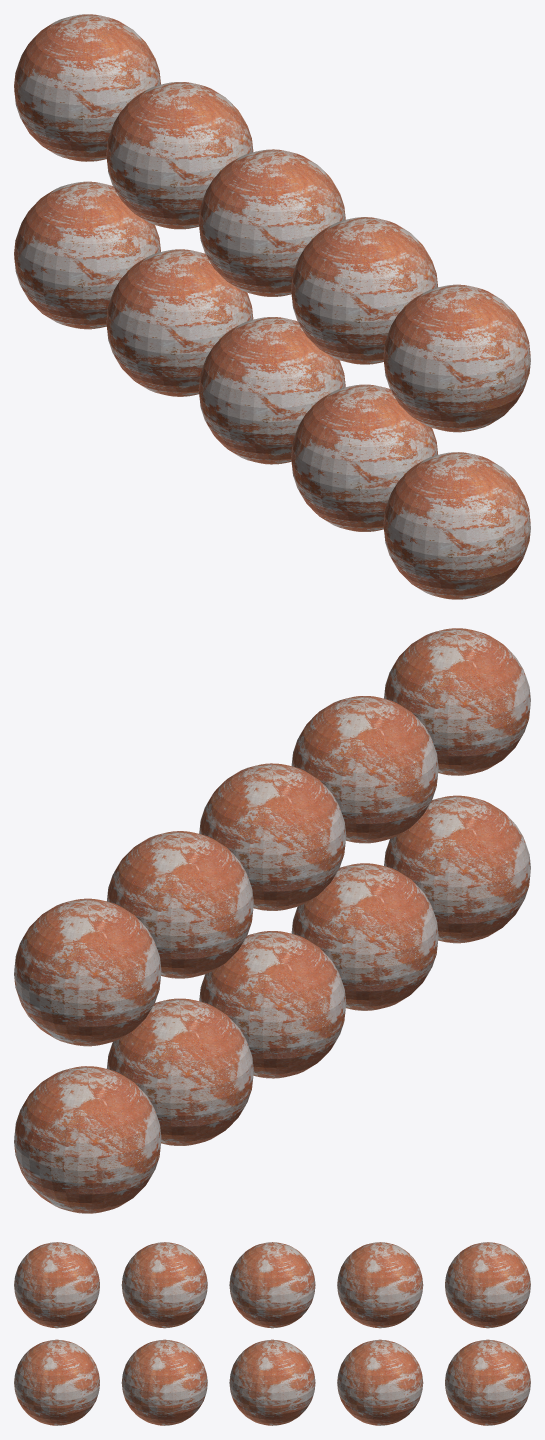
Rendered from PBRBallv2.gltf.
The picture shows the model from 3 angles, top to bottom: view 1: azimuth 30°, elevation 25°; view 2: azimuth 150°, elevation 25°; view 3: azimuth 270°, elevation 25°; orthographic projection. The views are drawn at different scales.
Visible parts, largest first — view 1: Sphere, Sphere.005, Sphere.006, Sphere.007, Sphere.009, Sphere.008, Sphere.002, Sphere.003, Sphere.004, Sphere.001; view 2: Sphere.004, Sphere.009, Sphere.008, Sphere.005, Sphere.007, Sphere.006, Sphere.002, Sphere.001, Sphere, Sphere.003; view 3: Sphere.002, Sphere.007, Sphere, Sphere.004, Sphere.005, Sphere.009, Sphere.001, Sphere.003, Sphere.006, Sphere.008.
Part boxes in pixels (x1,y1,x2,y2): Sphere: (383,452,530,599); Sphere.005: (383,284,530,432); Sphere.006: (291,217,437,364); Sphere.007: (198,149,345,296); Sphere.009: (14,14,160,161); Sphere.008: (106,82,253,229); Sphere.002: (198,317,345,464); Sphere.003: (106,249,253,396); Sphere.004: (14,181,160,329); Sphere.001: (291,384,437,531); Sphere.004: (14,1066,161,1213); Sphere.009: (14,898,161,1046); Sphere.008: (107,831,253,978); Sphere.005: (384,628,530,775); Sphere.007: (199,763,346,910); Sphere.006: (291,696,438,843); Sphere.002: (199,931,346,1078); Sphere.001: (291,863,438,1010); Sphere: (384,795,530,943); Sphere.003: (107,998,253,1145); Sphere.002: (229,1339,315,1425); Sphere.007: (229,1242,315,1328); Sphere: (14,1339,99,1425); Sphere.004: (445,1339,530,1425); Sphere.005: (14,1242,99,1328); Sphere.009: (445,1242,530,1328); Sphere.001: (121,1339,207,1425); Sphere.003: (337,1339,423,1425); Sphere.006: (121,1242,207,1328); Sphere.008: (337,1242,423,1328).
Size of the model in its own units: 2 by 4.5 by 12.
1 material, 1 textured.
